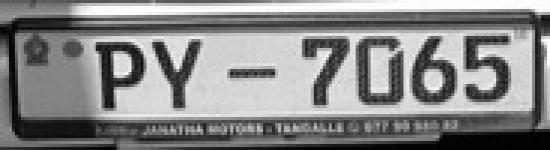-: (222, 63, 285, 85)
0: (355, 30, 409, 110)
5: (461, 30, 520, 109)
6: (407, 30, 460, 109)
7: (293, 31, 354, 109)
P: (88, 37, 148, 116)
Y: (149, 35, 209, 117)
